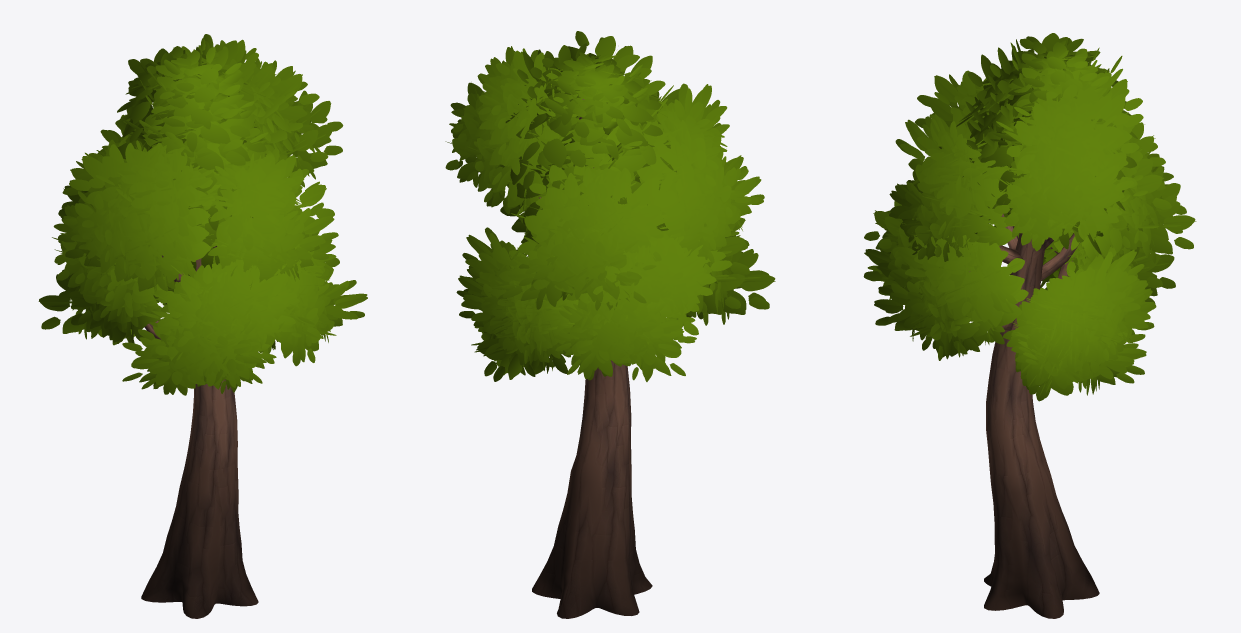
The model's file is CommonTree_1.gltf.
3 renders of one model, left to right at view 1: azimuth 30°, elevation 25°; view 2: azimuth 150°, elevation 25°; view 3: azimuth 270°, elevation 25°, orthographic. The views are drawn at different scales.
Visible parts, largest first — view 1: CommonTree_1; view 2: CommonTree_1; view 3: CommonTree_1.
Part boxes in pixels (x1=…): CommonTree_1: x1=38, y1=34, x2=367, y2=618; CommonTree_1: x1=445, y1=31, x2=775, y2=618; CommonTree_1: x1=863, y1=33, x2=1196, y2=618.
Bounding box in the file's own units: 4.31 × 7.26 × 4.58.
Materials: 2 (2 with a texture image).
